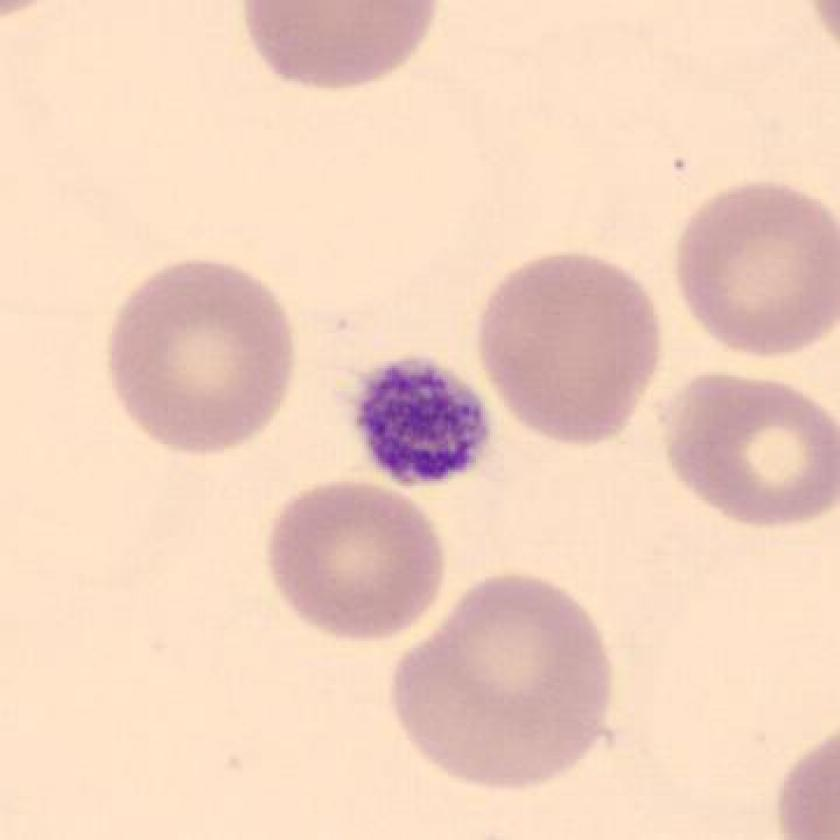platelets: (346, 351, 498, 497)
